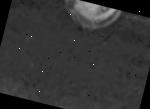colony: (54, 0, 123, 37)
